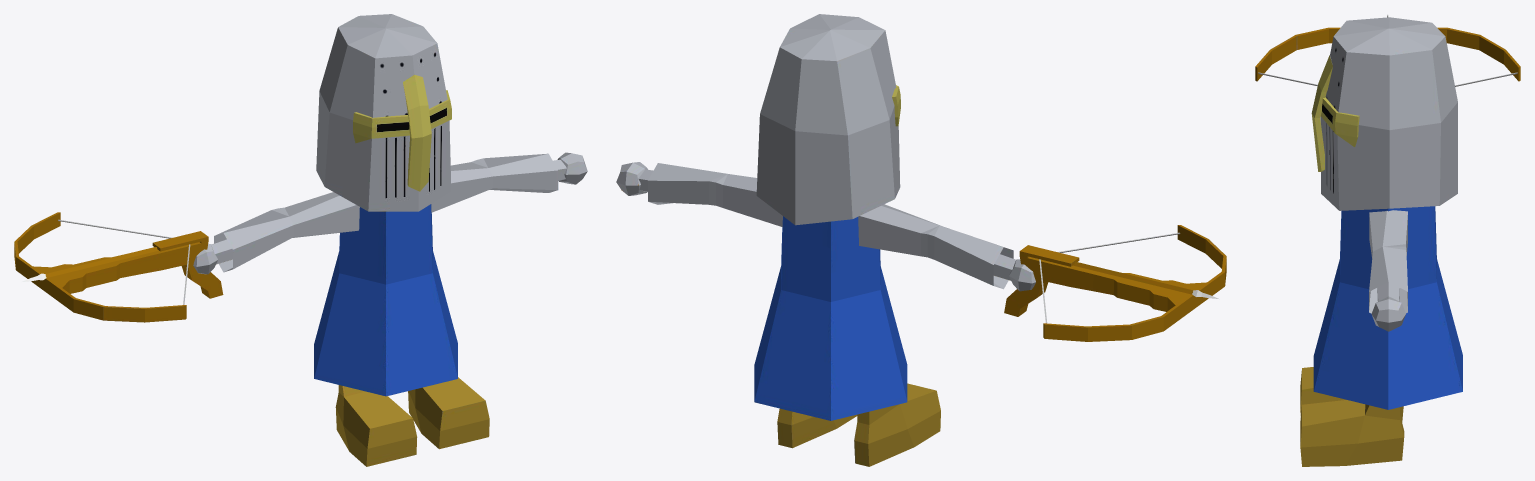
File: 弓箭手-攻擊-無骨架.fbx
3 views of the same model, side by side, from view 1: azimuth 30°, elevation 25°; view 2: azimuth 150°, elevation 25°; view 3: azimuth 270°, elevation 25° (orthographic). The views are drawn at different scales.
Visible parts, largest first — view 1: 弓驽-攻擊; view 2: 弓驽-攻擊; view 3: 弓驽-攻擊.
Part boxes in pixels (box(x1,y1,x2,y2)): 弓驽-攻擊: box(14, 14, 587, 466); 弓驽-攻擊: box(616, 14, 1226, 466); 弓驽-攻擊: box(1255, 15, 1520, 466).
Size of the model in its own units: 163 by 109 by 63.96.
Materials: 1 (1 with a texture image).
